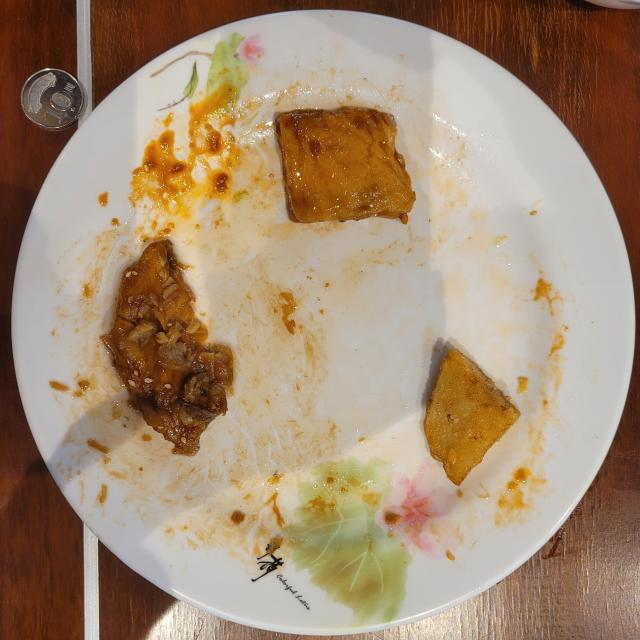Kabayaki sea bream fillet: (101, 240, 234, 455)
coin: (21, 69, 85, 131)
creamy tofu: (276, 108, 415, 222)
fried potato: (424, 349, 520, 485)
